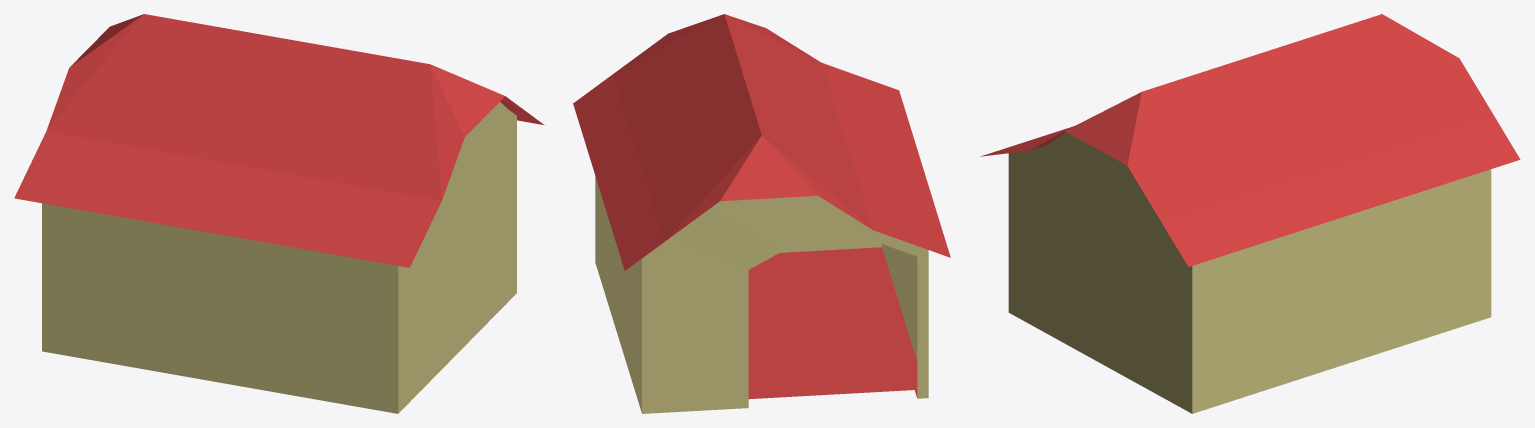
3 views of the same model, side by side, from view 1: azimuth 30°, elevation 25°; view 2: azimuth 150°, elevation 25°; view 3: azimuth 270°, elevation 25° (orthographic). The views are drawn at different scales.
Size of the model in its own units: 18.92 by 19.42 by 10.64.
